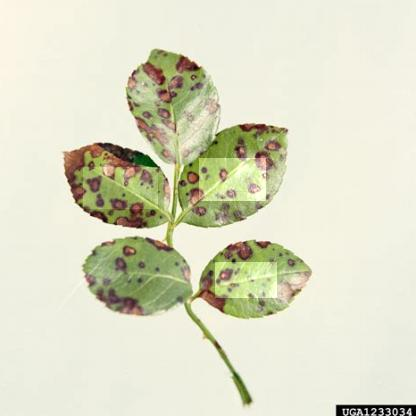black-spot: (144, 74, 206, 142), (83, 167, 158, 209), (199, 158, 266, 201), (106, 251, 151, 304), (215, 262, 277, 298)
